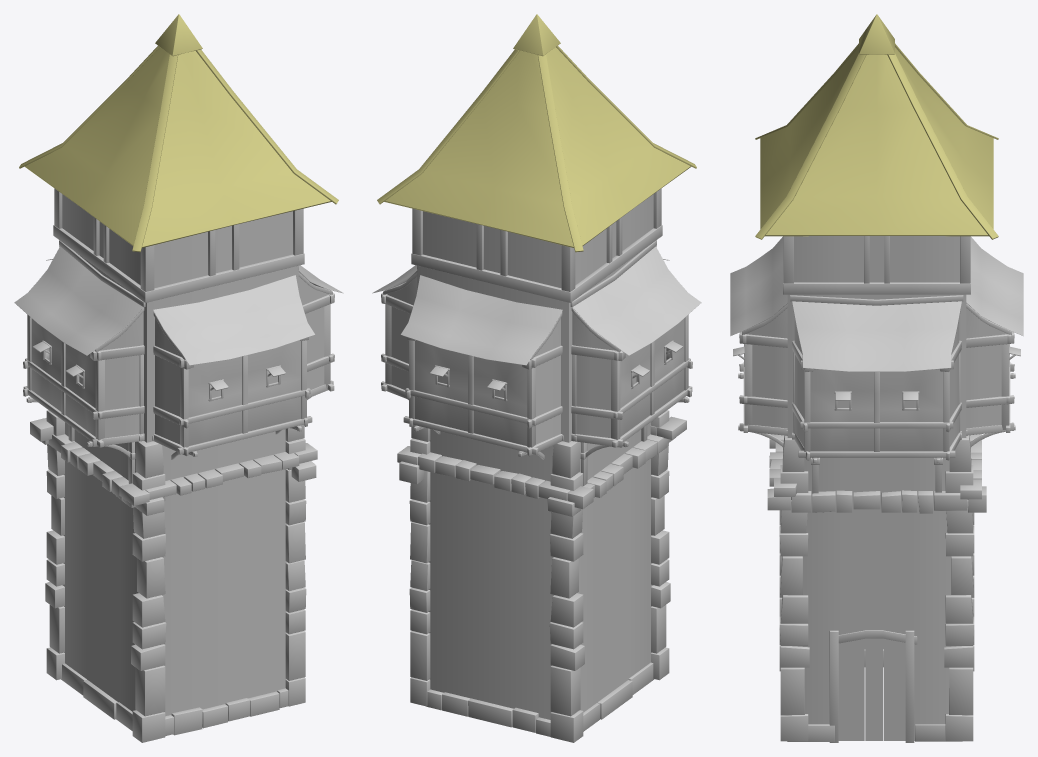
The model's file is tower level 1.fbx.
3 renders of one model, left to right at view 1: azimuth 30°, elevation 25°; view 2: azimuth 150°, elevation 25°; view 3: azimuth 270°, elevation 25°, orthographic. The views are drawn at different scales.
Parts seen in each view (by area): view 1: Cube.003, Cube.011, Cube.002; view 2: Cube.003, Cube.011, Cube.002; view 3: Cube.003, Cube.011, Cube.002.
Boxes of the visible parts, x1,y1,x2,y2 form: Cube.003: (30,188,317,742); Cube.011: (14,240,343,483); Cube.002: (19,14,338,252); Cube.003: (397,188,686,742); Cube.011: (372,240,701,485); Cube.002: (377,14,696,252); Cube.003: (767,236,986,742); Cube.011: (730,237,1023,494); Cube.002: (755,14,998,239).
Size of the model in its own units: 670 by 1686 by 650.
